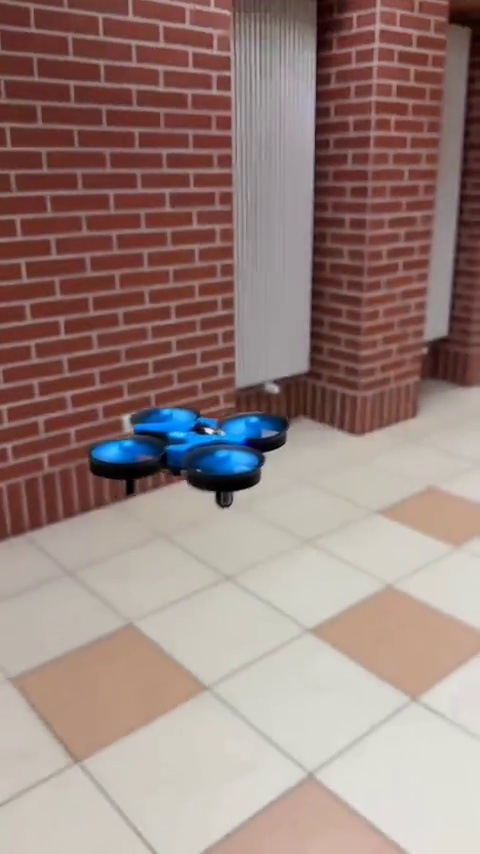drone: (87, 409, 285, 502)
